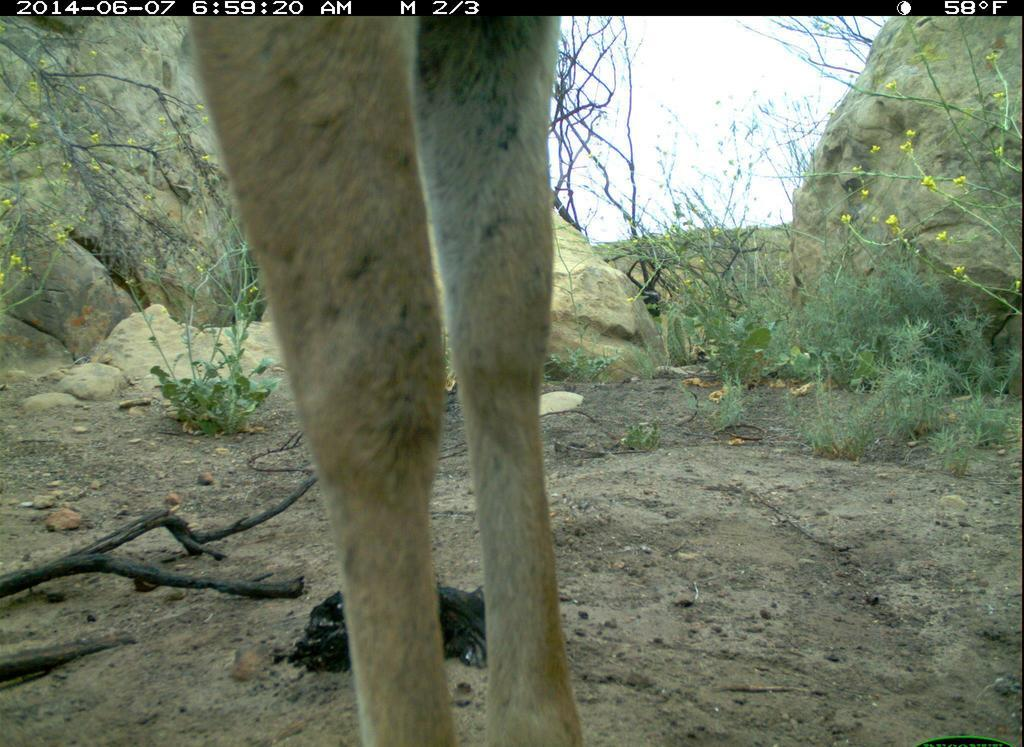deer: (175, 15, 612, 744)
